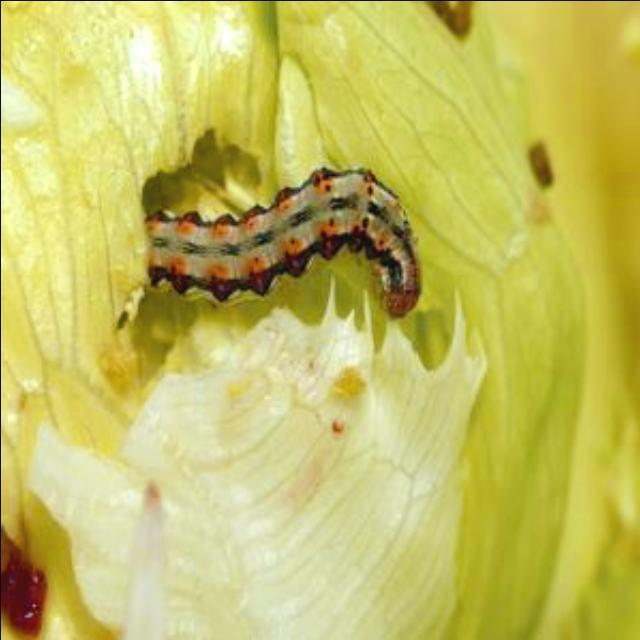Cotton bollworm: (125, 140, 445, 350)
